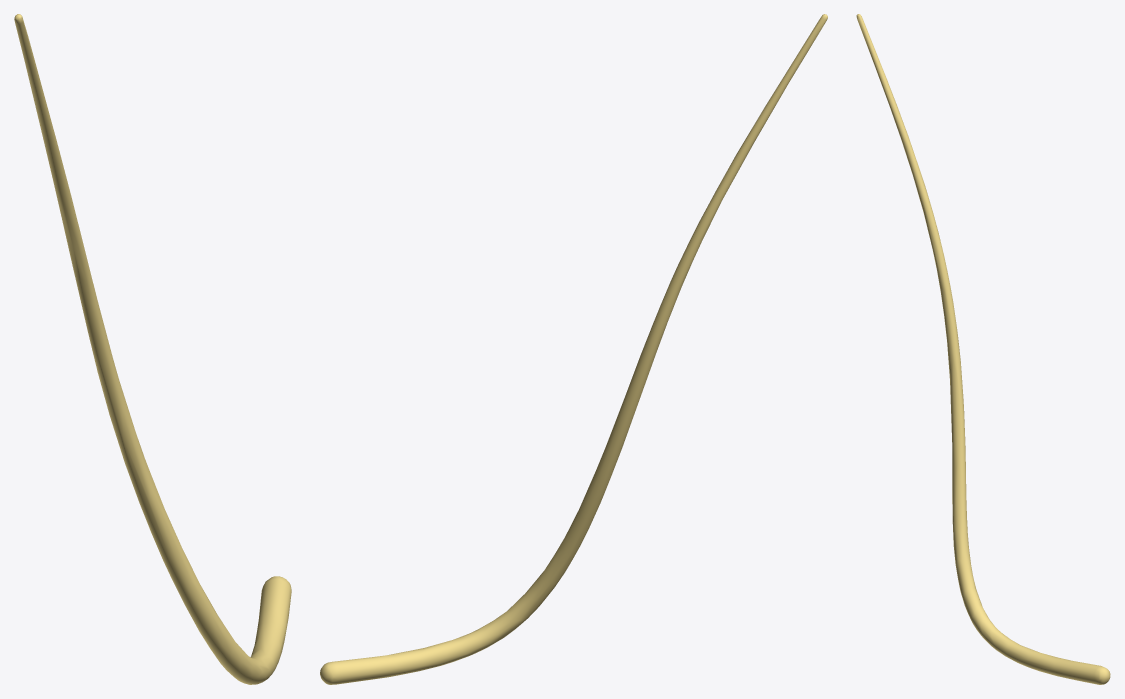
The model's file is fma52991_fj3943.glb.
The picture shows the model from 3 angles, left to right: view 1: azimuth 30°, elevation 25°; view 2: azimuth 150°, elevation 25°; view 3: azimuth 270°, elevation 25°; orthographic projection. The views are drawn at different scales.
Parts seen in each view (by area): view 1: FMA52991_FJ3943; view 2: FMA52991_FJ3943; view 3: FMA52991_FJ3943.
Part boxes in pixels (x1,y1,x2,y2): FMA52991_FJ3943: (14,14,291,684); FMA52991_FJ3943: (320,14,827,684); FMA52991_FJ3943: (856,14,1110,684).
Bounding box in the file's own units: 0.0176 × 0.0305 × 0.0131.
